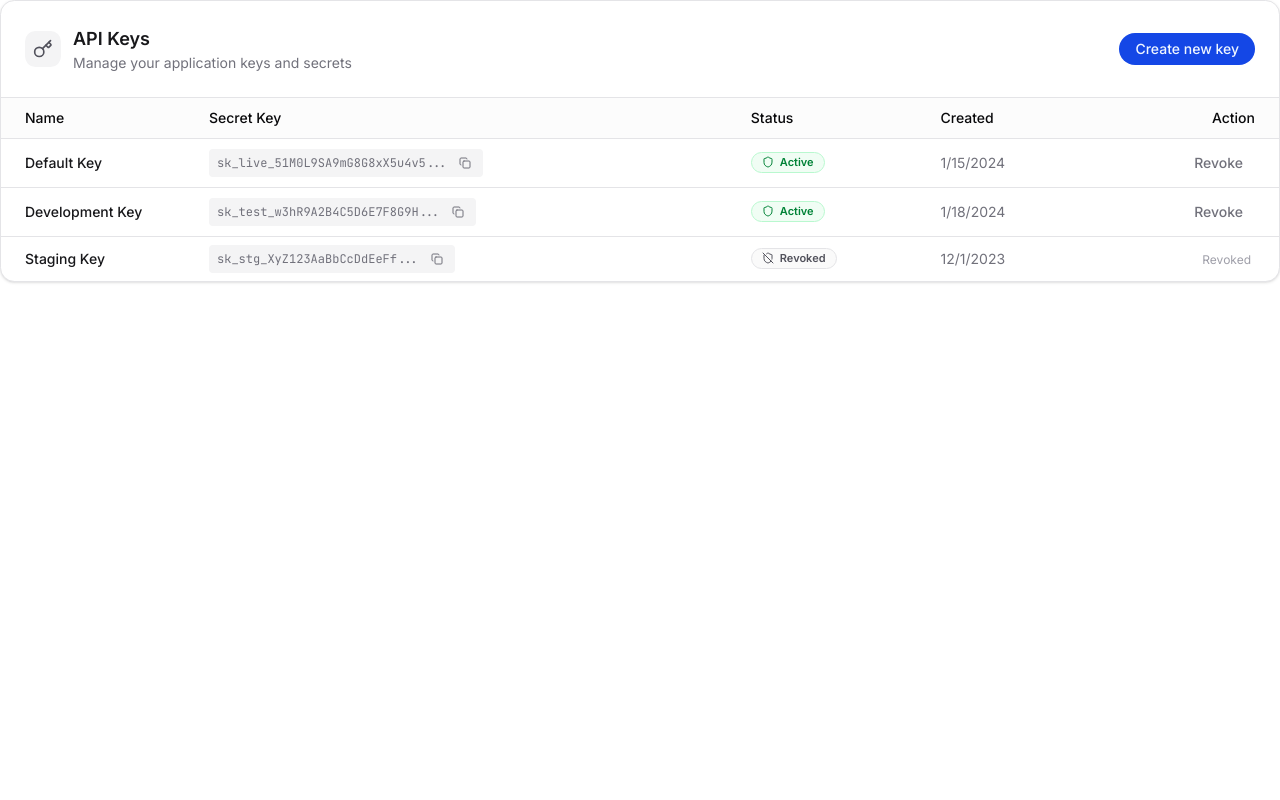
ApiKeysTable › opens modal when create button is clicked
Click the button "Create new key": (1187, 49) [1119,33,1255,65]
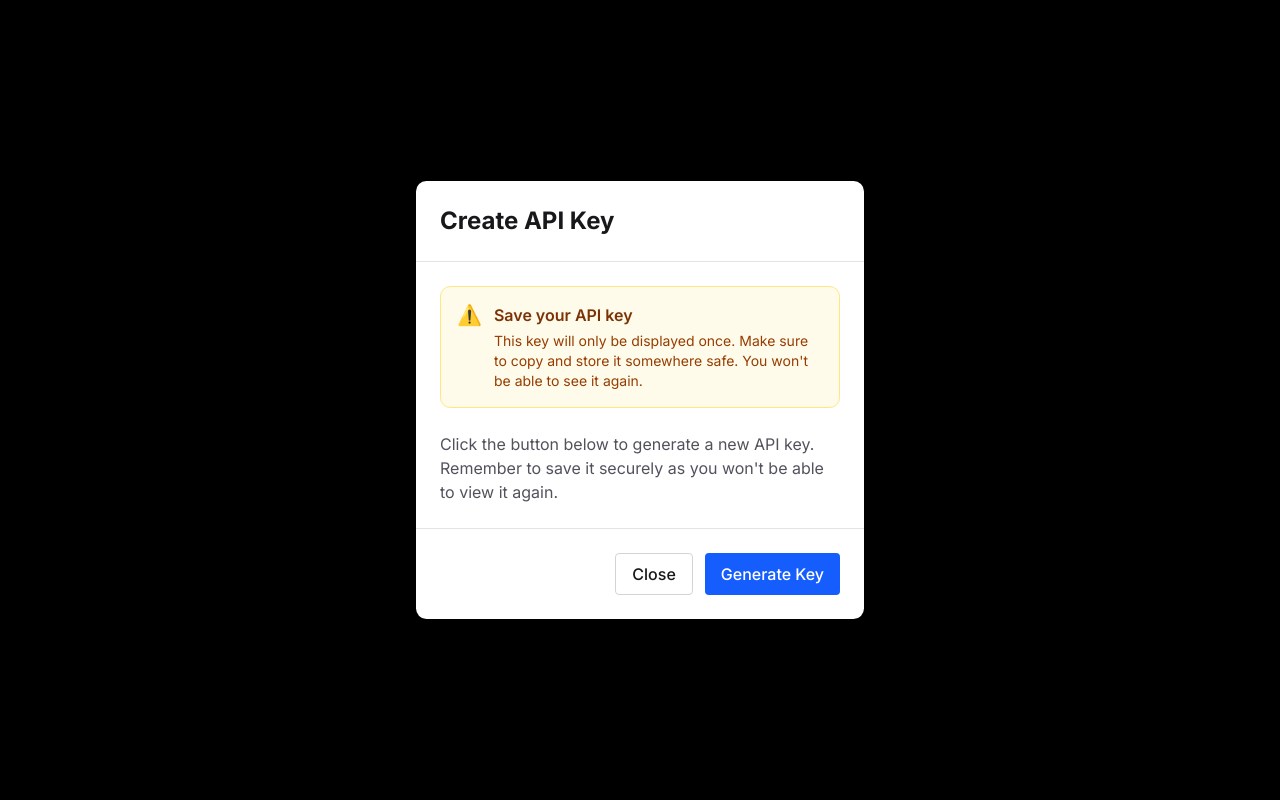
Expected: the heading "Create API Key" is shown, [440,206,614,235]
